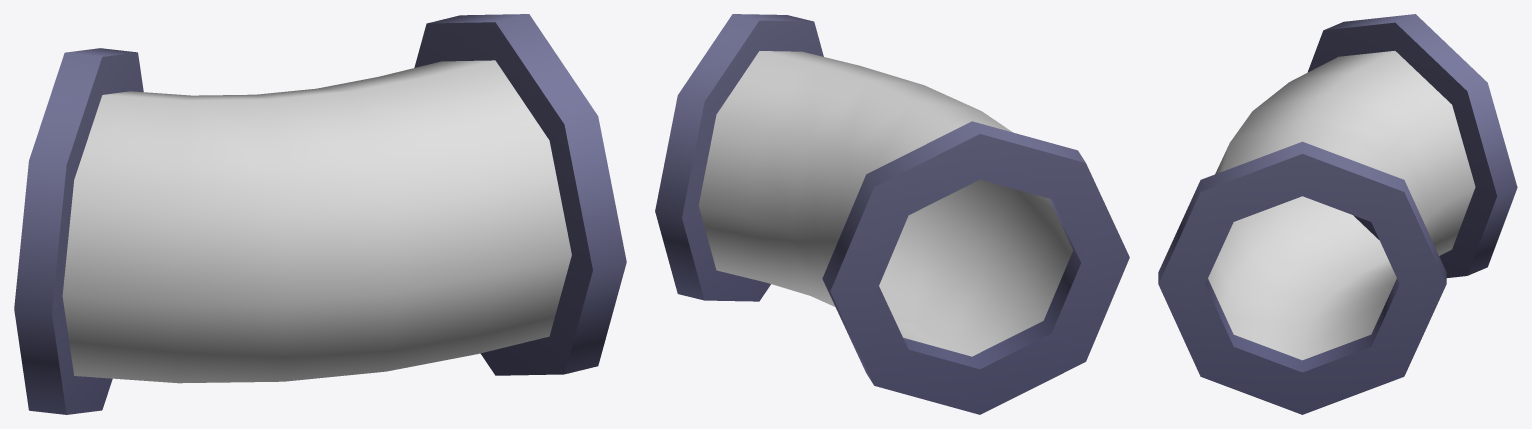
The model's file is pipe-glass-large-curve.glb.
3 views of the same model, side by side, from view 1: azimuth 30°, elevation 25°; view 2: azimuth 150°, elevation 25°; view 3: azimuth 270°, elevation 25° (orthographic). The views are drawn at different scales.
Parts seen in each view (by area): view 1: pipe-glass-large-curve; view 2: pipe-glass-large-curve; view 3: pipe-glass-large-curve.
Part boxes in pixels (x1=…): pipe-glass-large-curve: x1=14, y1=14, x2=626, y2=414; pipe-glass-large-curve: x1=655, y1=14, x2=1129, y2=414; pipe-glass-large-curve: x1=1158, y1=14, x2=1517, y2=414.
Bounding box in the file's own units: 1.5 × 1 × 1.25.
